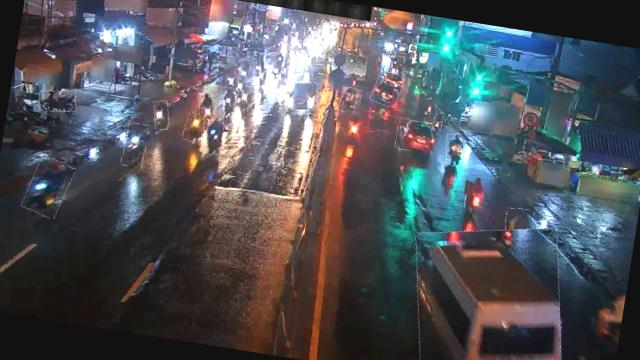Bike: (23, 154, 74, 219), (502, 206, 536, 248), (122, 121, 150, 168), (37, 87, 77, 115), (204, 119, 225, 155), (444, 132, 466, 166), (183, 112, 206, 144), (152, 99, 172, 130), (196, 90, 216, 121), (464, 179, 484, 210), (218, 86, 238, 116), (339, 86, 359, 114), (236, 84, 252, 112), (432, 112, 444, 132), (348, 72, 360, 86)
Bus: (400, 213, 579, 360)
Car: (394, 118, 436, 155), (282, 79, 320, 117), (369, 76, 402, 108)
